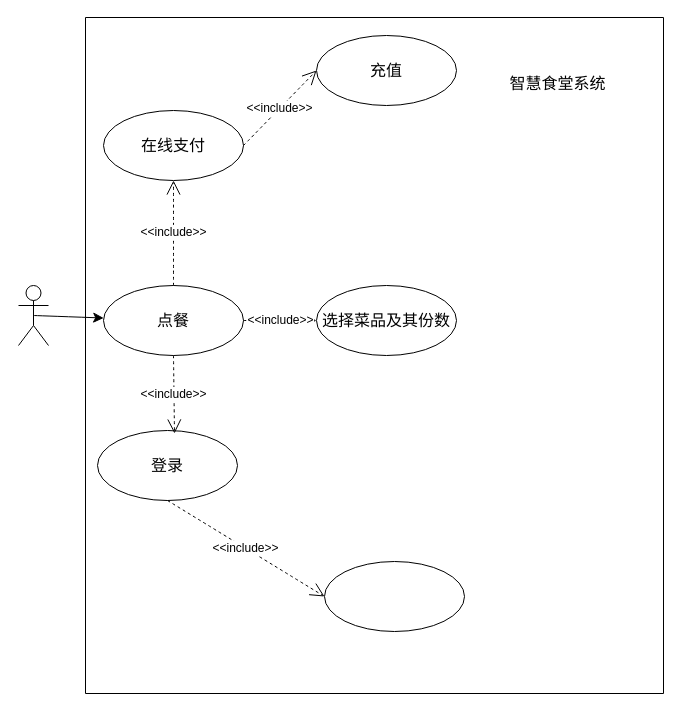
This 681x711 diagram has some shape labels left out. Each missing label, with the box of its shape:
注册: (324, 560, 464, 632)
顾客: (18, 284, 48, 346)
